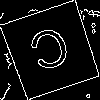C: (26, 25, 77, 81)
